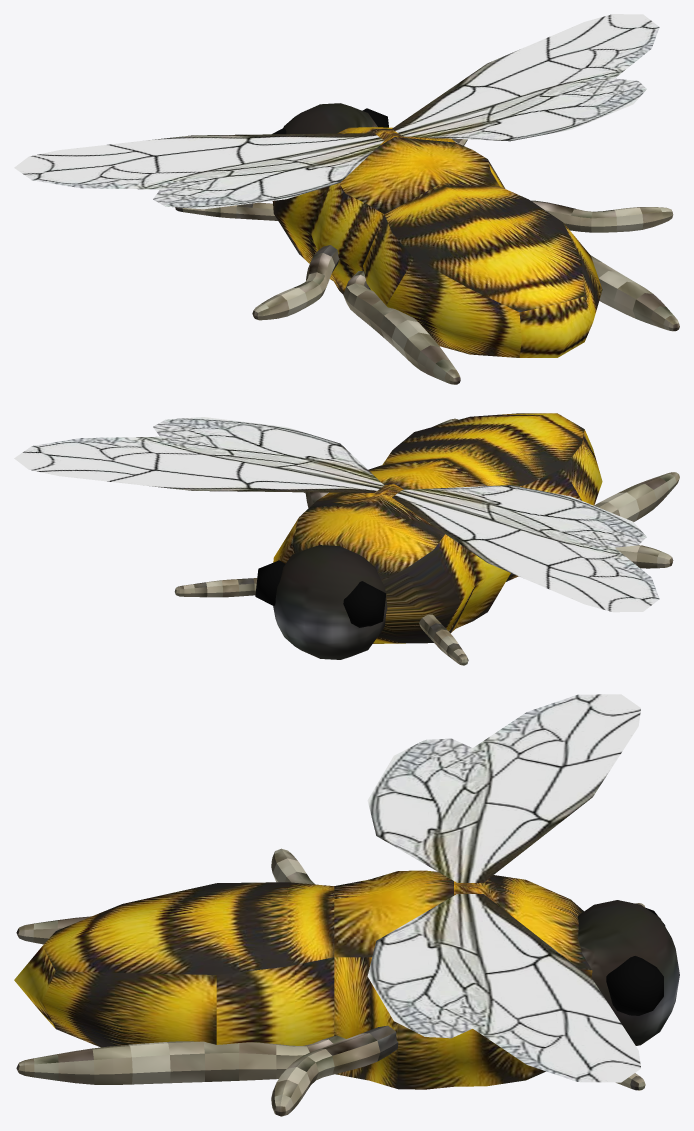
The model's file is bee.fbx.
3 views of the same model, one above another, from view 1: azimuth 30°, elevation 25°; view 2: azimuth 150°, elevation 25°; view 3: azimuth 270°, elevation 25° (orthographic). The views are drawn at different scales.
Visible parts, largest first — view 1: Body, Wing.L, Wing.R, HindLegs, MidLegs, Head, FrontArms; view 2: Body, Wing.R, Wing.L, Head, FrontArms, HindLegs, Eye.L, MidLegs, Eye.R; view 3: Body, Wing.R, Wing.L, HindLegs, Head, MidLegs, Eye.R.
Part boxes in pixels (x1,y1,x2,y2): Body: [272, 127, 602, 357]; Wing.L: [14, 133, 384, 209]; Wing.R: [392, 14, 659, 141]; HindLegs: [343, 255, 679, 384]; MidLegs: [252, 200, 673, 320]; Head: [283, 103, 377, 134]; FrontArms: [175, 138, 467, 220]; Body: [273, 413, 602, 643]; Wing.R: [14, 417, 384, 492]; Wing.L: [392, 485, 659, 612]; Head: [273, 545, 387, 659]; FrontArms: [174, 578, 468, 665]; HindLegs: [433, 418, 679, 521]; Eye.L: [343, 581, 386, 627]; MidLegs: [304, 492, 673, 574]; Eye.R: [255, 560, 285, 605]; Body: [14, 870, 592, 1089]; Wing.R: [367, 894, 640, 1082]; Wing.L: [367, 694, 640, 882]; HindLegs: [16, 916, 345, 1084]; Head: [578, 900, 679, 1045]; MidLegs: [271, 848, 398, 1116]; Eye.R: [606, 956, 663, 1015].
Bounding box in the file's own units: 418 × 95.24 × 303.
